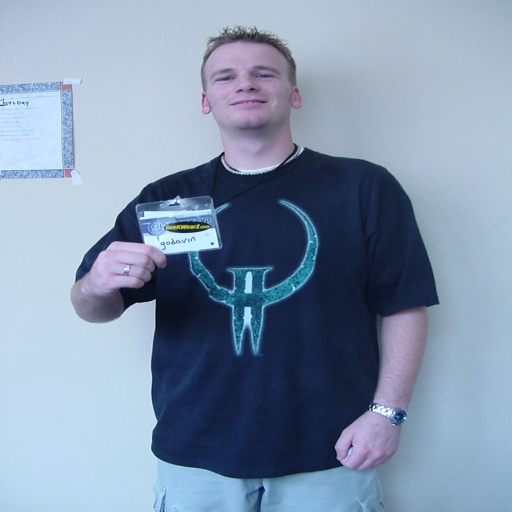hand: (81, 230, 174, 318), (330, 409, 403, 472)
